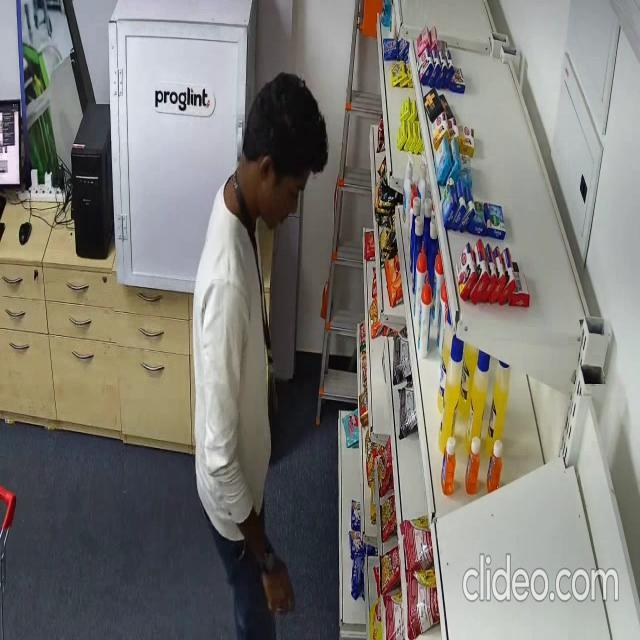normal: (189, 70, 330, 640)
